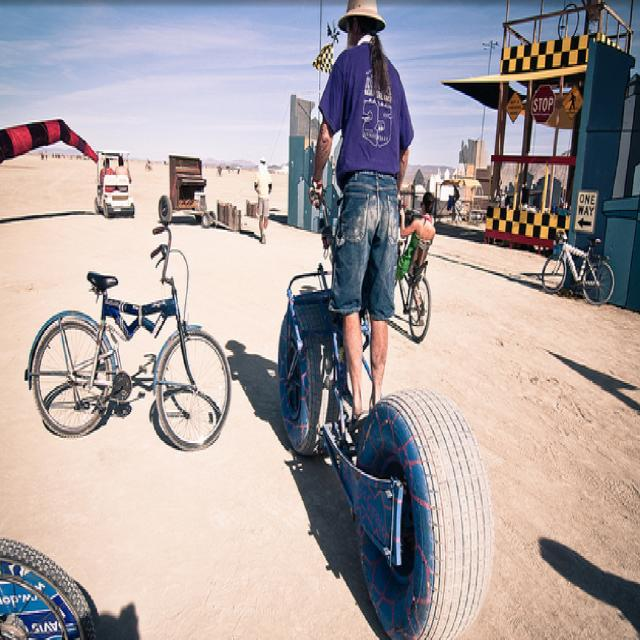STOP: (532, 76, 557, 128)
